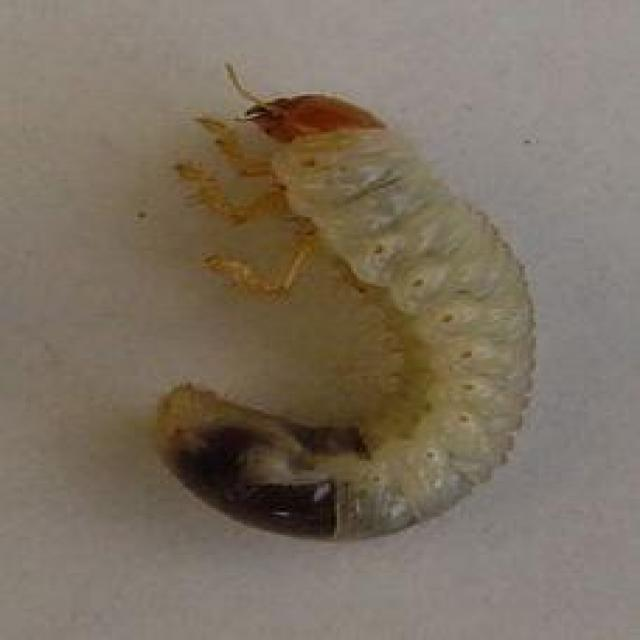Grub-Adult-: (122, 57, 551, 550)
